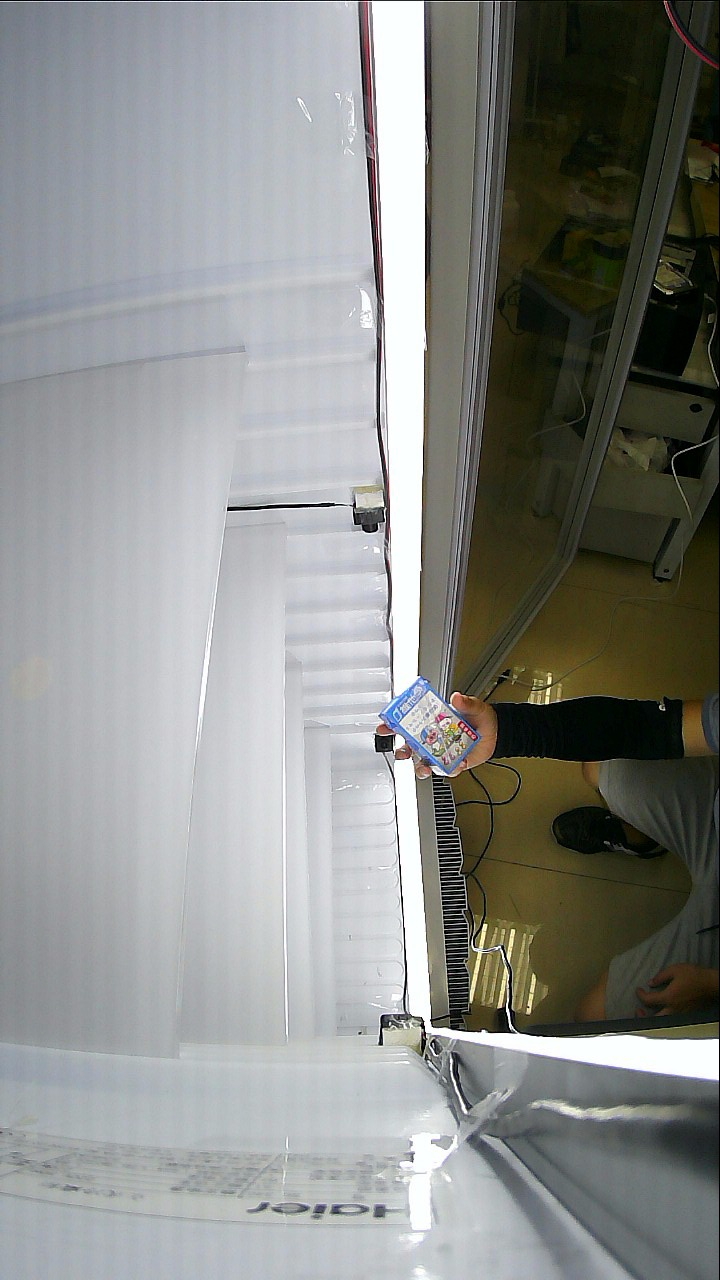VitaSoyOriginal: (381, 680, 514, 781)
